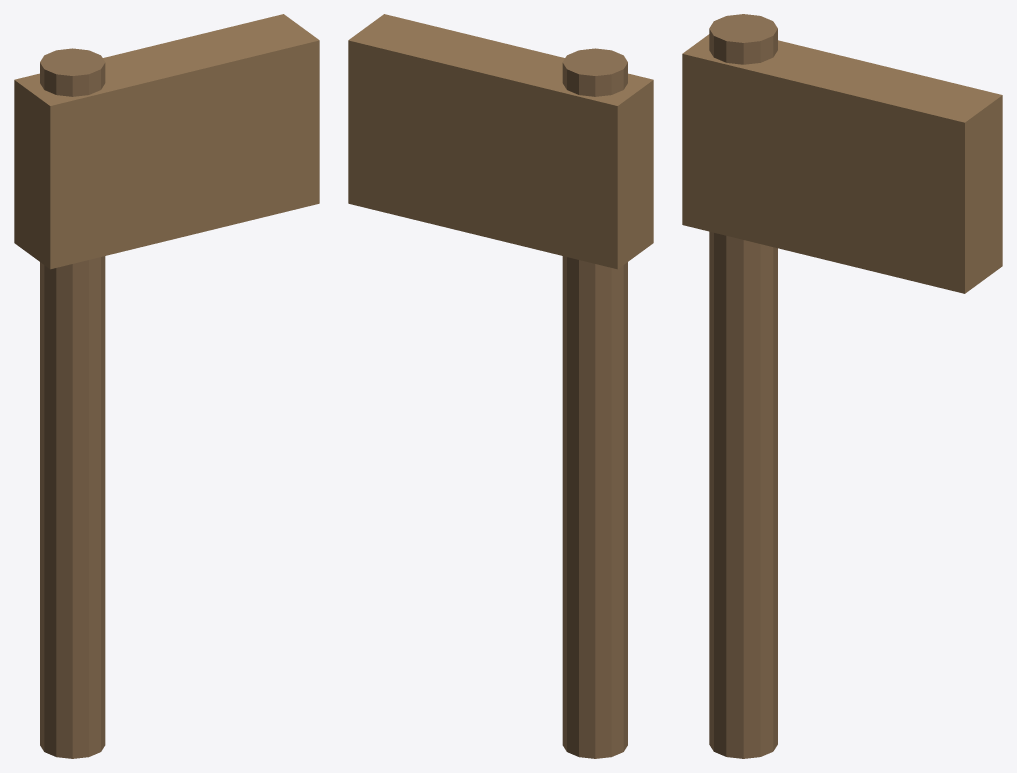
Rendered from wooden_axe.glb.
3 renders of one model, left to right at view 1: azimuth 30°, elevation 25°; view 2: azimuth 150°, elevation 25°; view 3: azimuth 330°, elevation 25°, orthographic. The views are drawn at different scales.
Visible parts, largest first — view 1: axe_0_1, axe_0_0; view 2: axe_0_1, axe_0_0; view 3: axe_0_1, axe_0_0.
Boxes of the visible parts, x1,y1,x2,y2 form: axe_0_1: [14, 14, 319, 269]; axe_0_0: [40, 48, 105, 758]; axe_0_1: [348, 14, 653, 269]; axe_0_0: [562, 48, 627, 758]; axe_0_1: [682, 34, 1002, 293]; axe_0_0: [709, 14, 777, 758].
Size of the model in its own units: 0.95 by 2.3 by 0.22.
